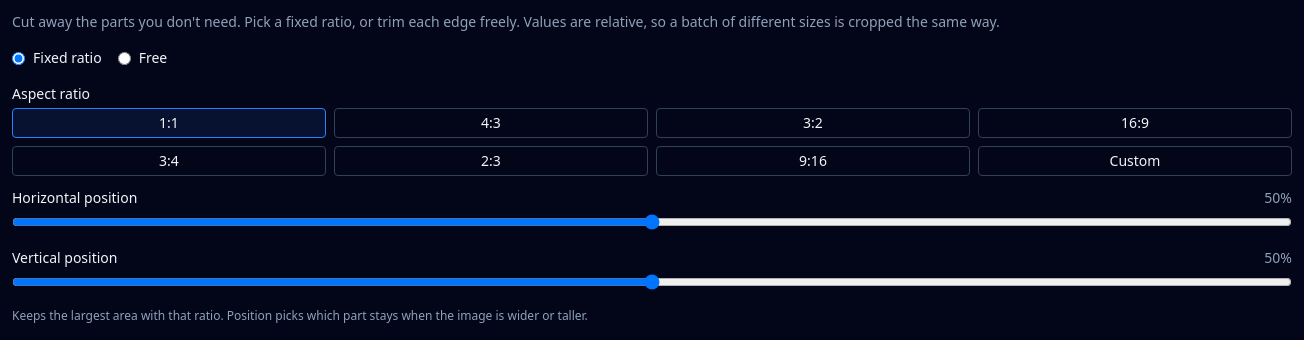
it: crop panel › trims edges in free mode and shows errors
The width and height of the screenshot is (1304, 340).
Click the radio button labelled "Free". click: (124, 58)
box: 118,52 -> 131,64
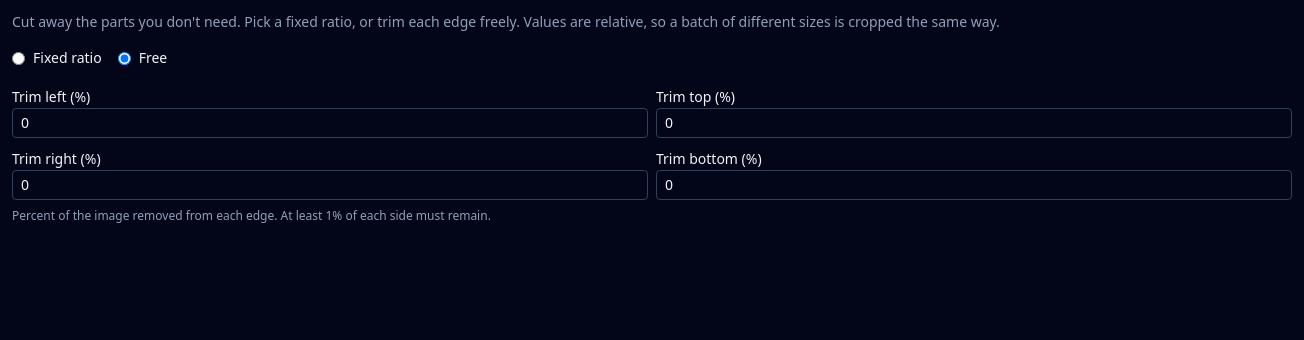
Replace the text in the number field labelled "Trim left (%)" with "60". click: (330, 123)
box: 12,108 -> 648,138
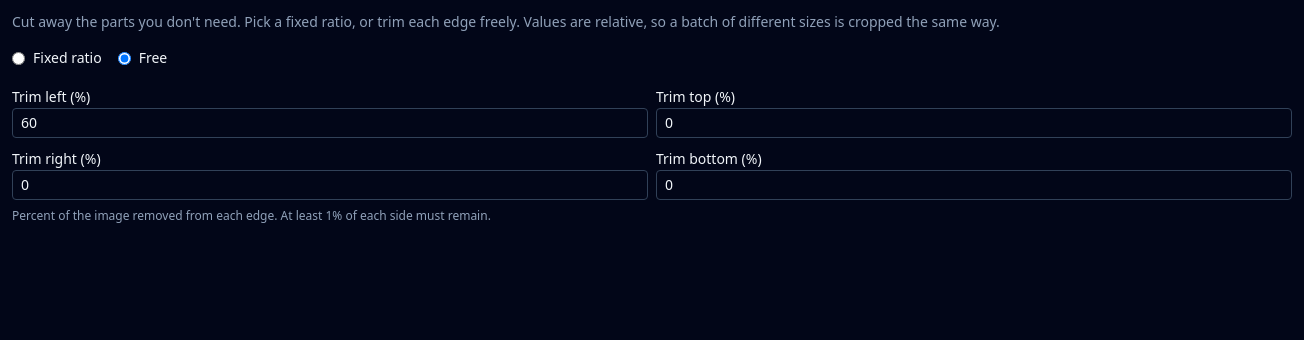
Replace the text in the number field labelled "Trim right (%)" with "60". click: (330, 185)
box: 12,170 -> 648,200
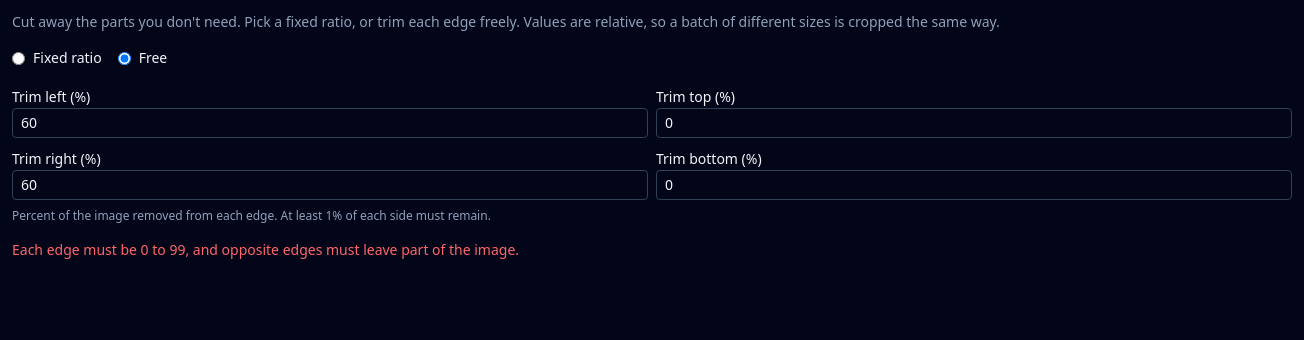
expect the message shows "opposite edges": met, box 12,240 -> 519,259
